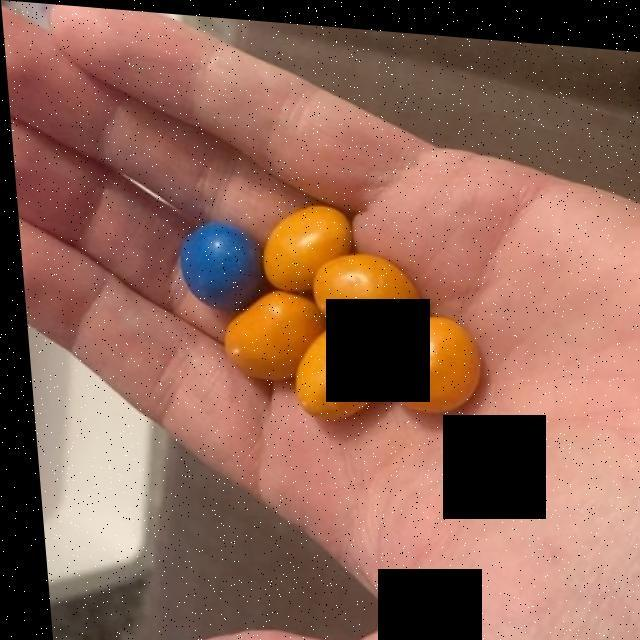m-m-s: (176, 203, 479, 426)
